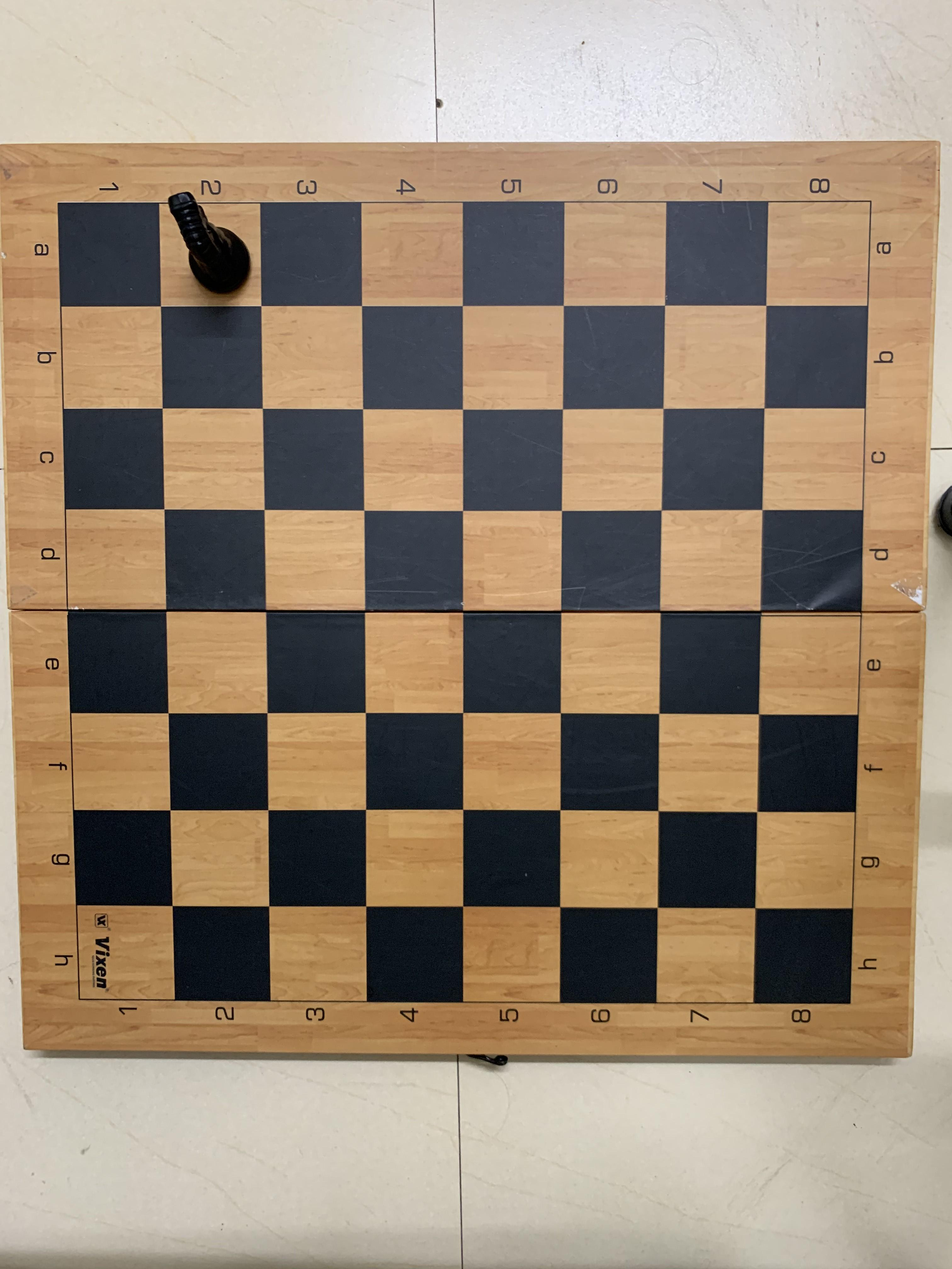black_knight: (159, 186, 259, 305)
